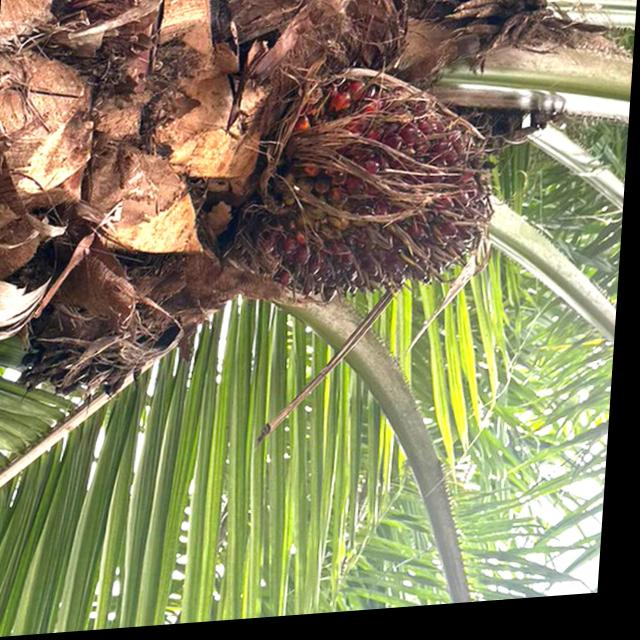ripe: (246, 55, 525, 320)
